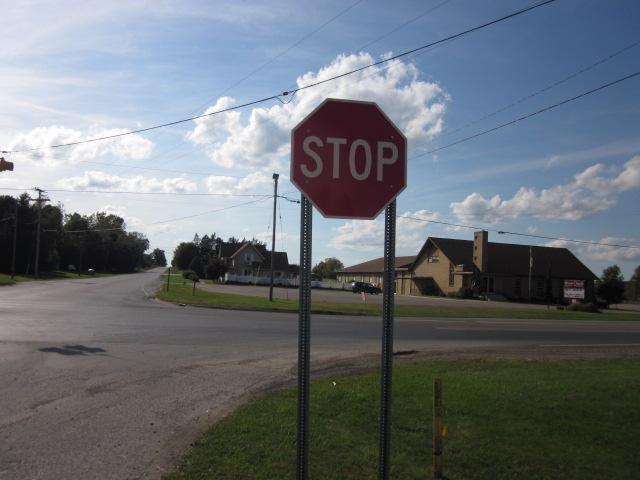stop: (284, 95, 415, 228)
